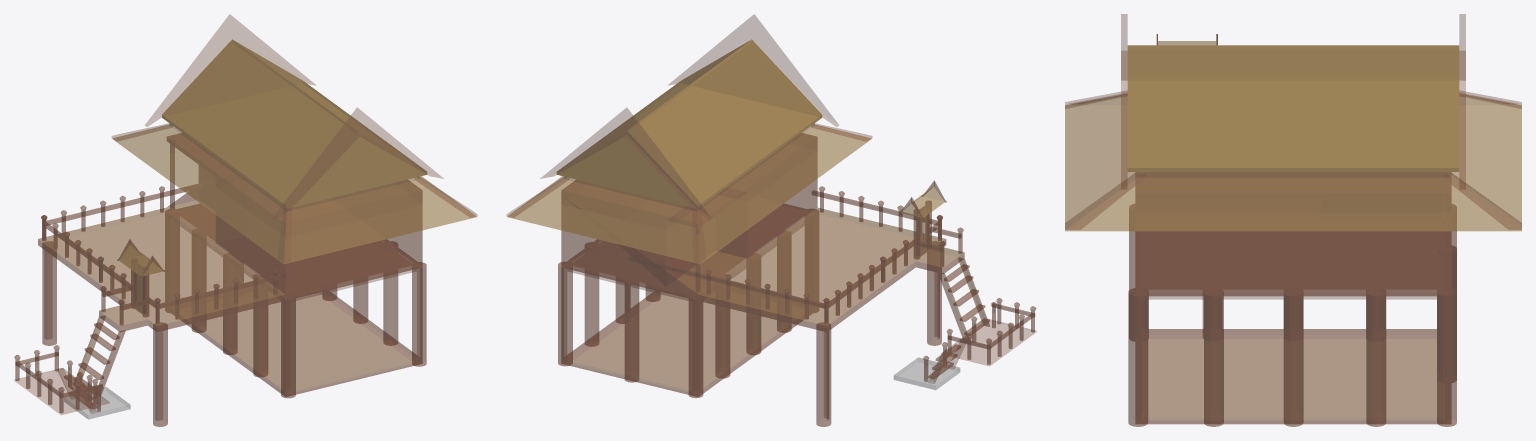
File: ThaiHouse.fbx
The picture shows the model from 3 angles, left to right: view 1: azimuth 30°, elevation 25°; view 2: azimuth 150°, elevation 25°; view 3: azimuth 270°, elevation 25°; orthographic projection. The views are drawn at different scales.
Parts seen in each view (by area): view 1: ThaiHouse; view 2: ThaiHouse; view 3: ThaiHouse.
Part boxes in pixels (left/top/right/bottom): ThaiHouse: left=14, top=14, right=477, bottom=426; ThaiHouse: left=506, top=14, right=1036, bottom=426; ThaiHouse: left=1065, top=14, right=1521, bottom=426.
Size of the model in its own units: 1626 by 1106 by 1248.
